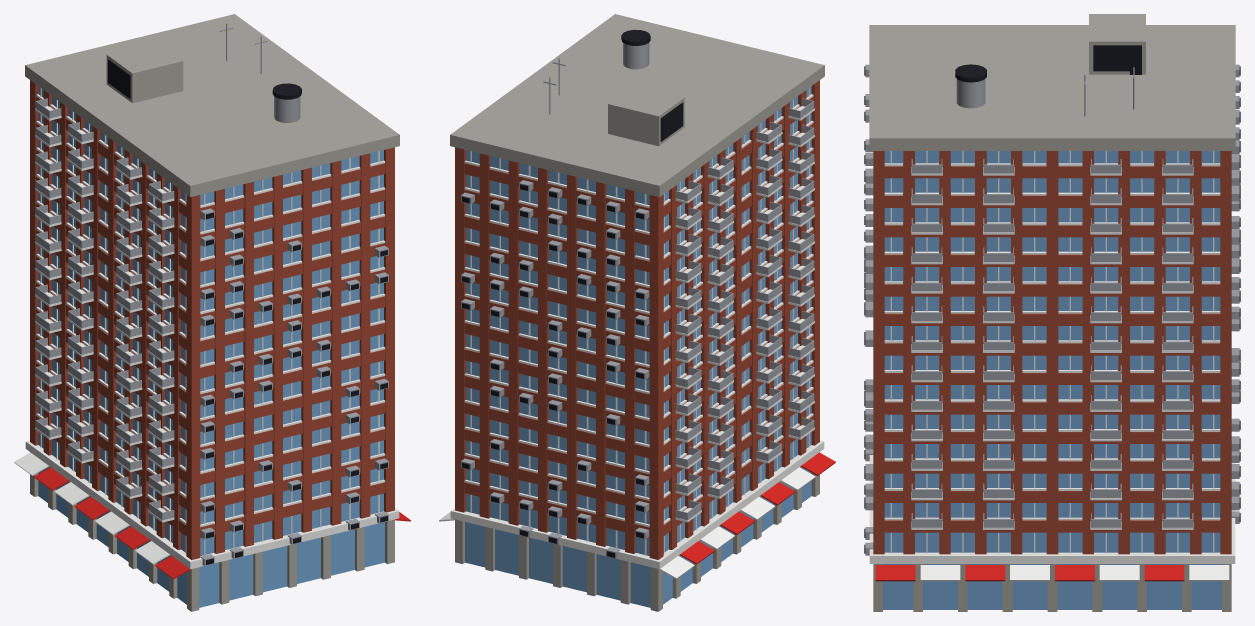
The model's file is Skyline_Apartment.fbx.
The picture shows the model from 3 angles, left to right: view 1: azimuth 30°, elevation 25°; view 2: azimuth 150°, elevation 25°; view 3: azimuth 270°, elevation 25°; orthographic projection. The views are drawn at different scales.
Visible parts, largest first — view 1: Brick, Concrete.001, Window.001, White.001, Metal.001, Dark.001, Accent; view 2: Brick, Concrete.001, Window.001, White.001, Metal.001, Dark.001, Accent; view 3: Brick, Window.001, Concrete.001, White.001, Metal.001, Dark.001, Accent.
Boxes of the visible parts, x1,y1,x2,y2 form: Brick: (30,80,394,559); Concrete.001: (25,14,399,611); Window.001: (38,86,384,607); White.001: (14,88,399,569); Metal.001: (35,23,388,565); Dark.001: (108,59,387,564); Accent: (34,467,410,579); Brick: (455,80,819,559); Concrete.001: (450,14,824,611); Window.001: (465,86,811,607); White.001: (439,88,824,579); Metal.001: (461,42,814,558); Dark.001: (462,29,683,557); Accent: (680,452,835,564); Brick: (873,151,1231,554); Window.001: (883,151,1221,609); Concrete.001: (869,14,1235,611); White.001: (869,151,1235,581); Metal.001: (865,64,1239,555); Dark.001: (864,45,1240,553); Accent: (875,565,1184,581).
Bounding box in the file's own units: 37.43 × 70 × 46.2.
